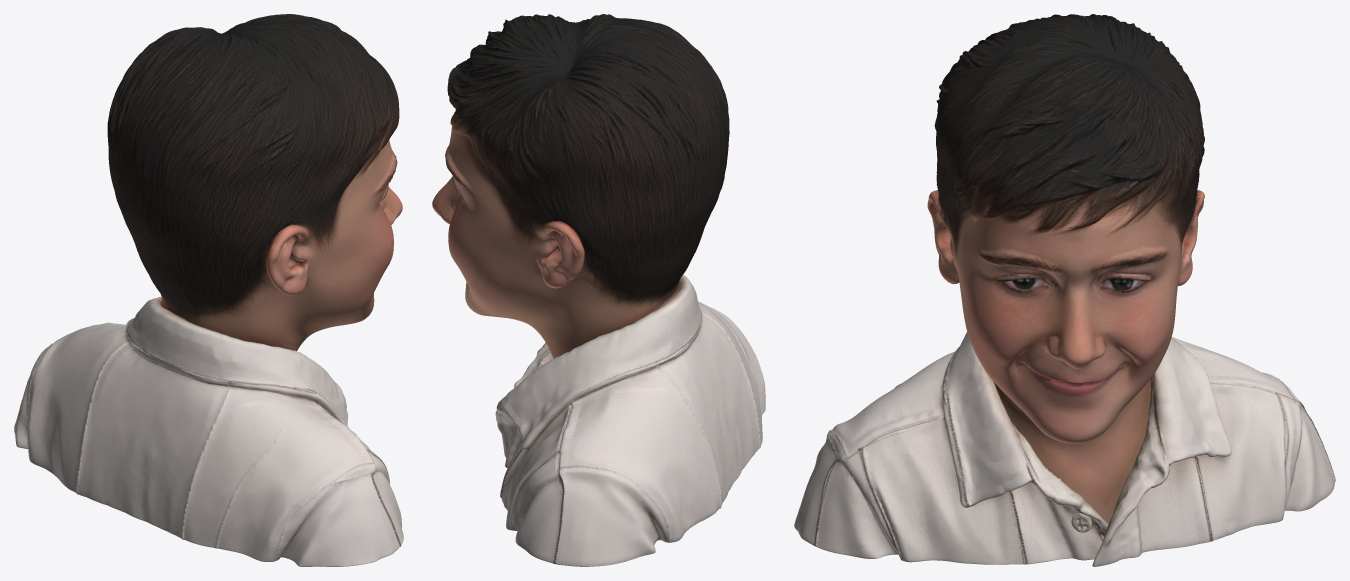
Rendered from leo-head.glb.
3 renders of one model, left to right at view 1: azimuth 30°, elevation 25°; view 2: azimuth 150°, elevation 25°; view 3: azimuth 270°, elevation 25°, orthographic. The views are drawn at different scales.
Parts seen in each view (by area): view 1: tripo_node_ddef8613-e7b8-4aae-b6a7-eb312e3d05cf; view 2: tripo_node_ddef8613-e7b8-4aae-b6a7-eb312e3d05cf; view 3: tripo_node_ddef8613-e7b8-4aae-b6a7-eb312e3d05cf.
Boxes of the visible parts, <box> form: tripo_node_ddef8613-e7b8-4aae-b6a7-eb312e3d05cf: <box>14,14,403,566</box>; tripo_node_ddef8613-e7b8-4aae-b6a7-eb312e3d05cf: <box>432,14,765,566</box>; tripo_node_ddef8613-e7b8-4aae-b6a7-eb312e3d05cf: <box>794,14,1335,566</box>.
Size of the model in its own units: 0.719 by 0.9804 by 0.981.
Materials: 1 (1 with a texture image).
